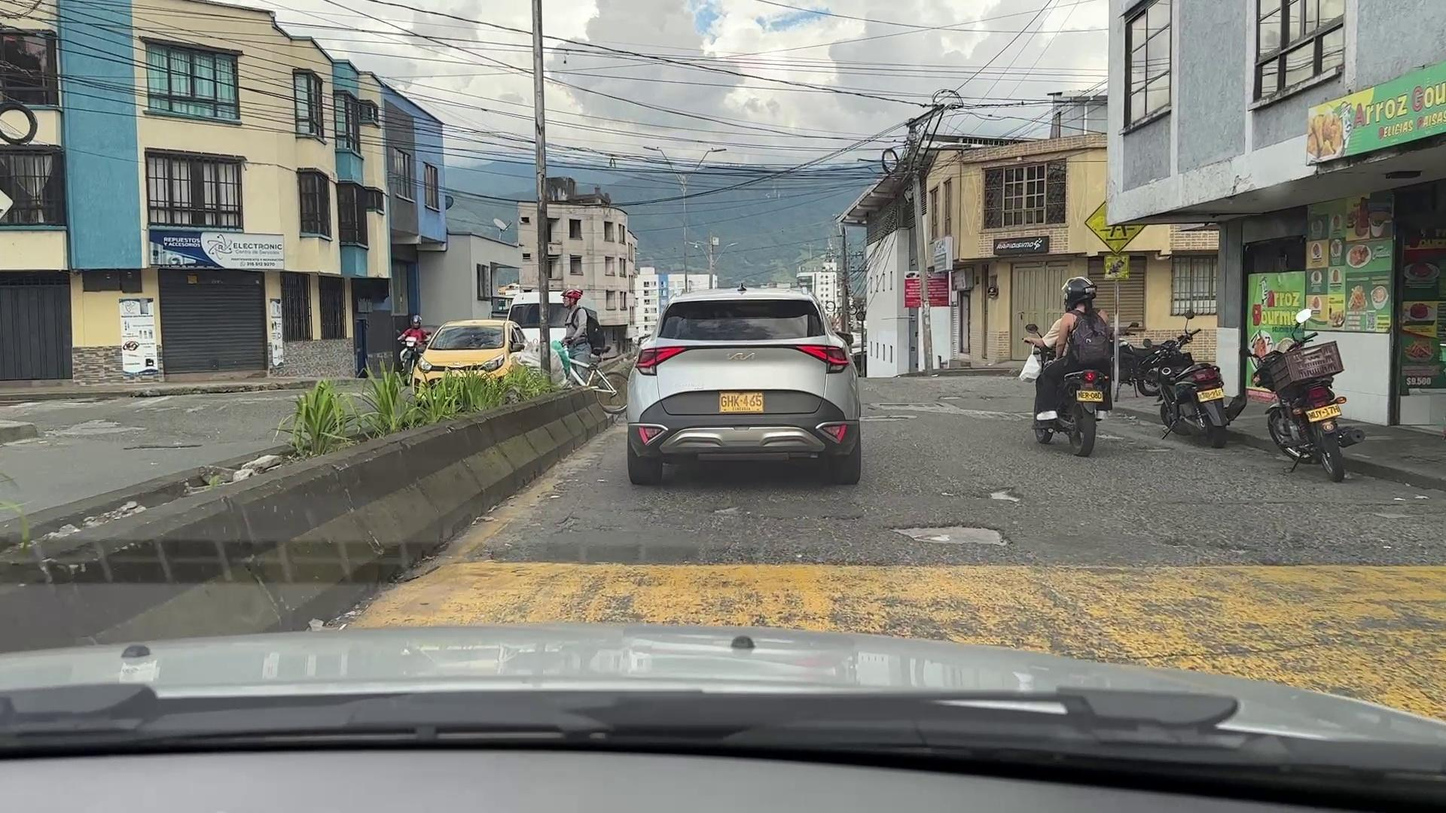bache: (895, 526, 1006, 545), (990, 486, 1023, 502), (714, 506, 740, 513), (1096, 433, 1125, 439), (1136, 447, 1174, 451), (938, 396, 962, 399)
grieta: (554, 515, 580, 535)
registro: (860, 415, 918, 421)
rejilla: (870, 402, 1034, 420)
